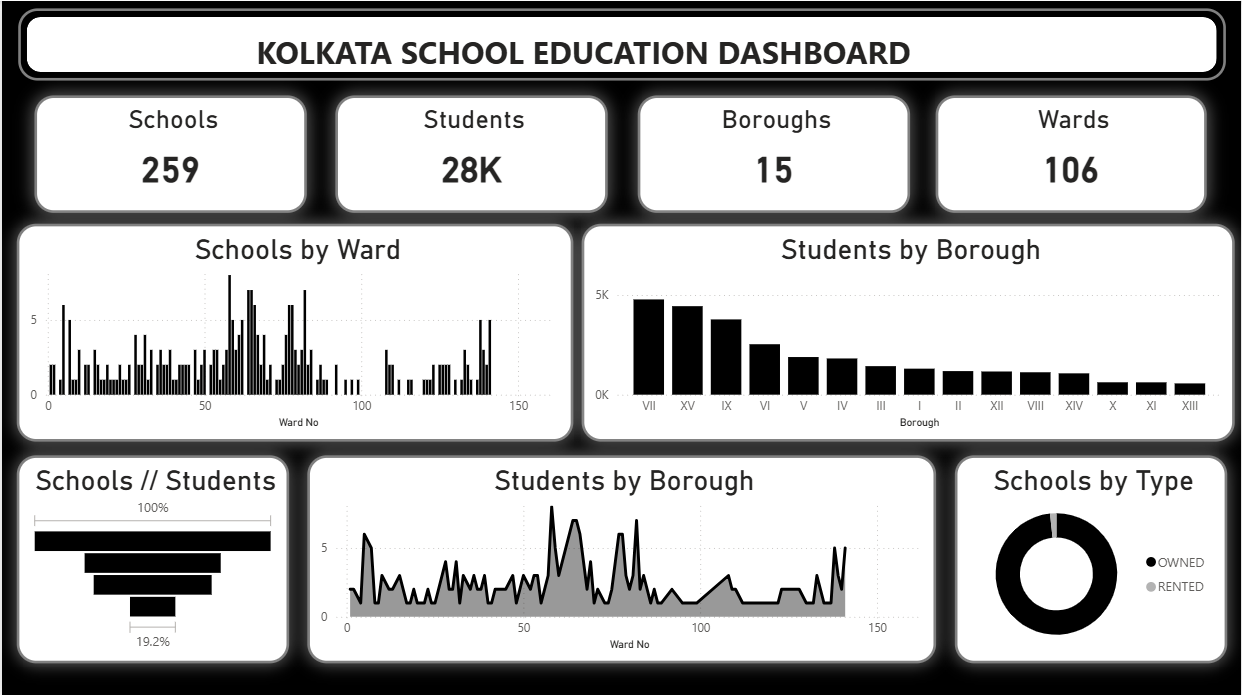

This screenshot's page, from the dashboard's own definition file:
{"tool":"powerbi","page":{"name":"Page 1","canvas":[1280,720],"ordinal":0},"visuals":[{"type":"shape","title":"KOLKATA SCHOOL EDUCATION DASHBOARD","box":[17.3,7.7,1247.3,74.8],"z":0},{"type":"textbox","box":[17.3,7.7,1176.3,74.8],"z":1000},{"type":"card","title":"Schools","fields":{"Values":["Kolkata_Schools.Total Schools"]},"box":[33.3,97.8,230.8,121.3],"z":2000},{"type":"card","title":"Students","fields":{"Values":["Kolkata_Schools.Total Students"]},"box":[359.9,97.8,230.8,121.3],"z":3000},{"type":"card","title":" Boroughs ","fields":{"Values":["Kolkata_Schools.Total Boroughs"]},"box":[688.6,97.8,230.8,121.3],"z":4000},{"type":"card","title":" Wards ","fields":{"Values":["Kolkata_Schools.Total Wards"]},"box":[1013.3,97.8,230.8,121.3],"z":5000},{"type":"lineStackedColumnComboChart","title":"Students by Borough","fields":{"Category":["Kolkata_Schools.Borough"],"Y":["Kolkata_Schools.Total Students"]},"box":[599.1,231.2,674.9,168.2],"z":6000},{"type":"clusteredColumnChart","title":"Schools by Ward","fields":{"Category":["Kolkata_Schools.Ward No"],"Y":["Kolkata_Schools.Total Schools"]},"box":[10.3,231.2,575.1,168.2],"z":7000},{"type":"stackedAreaChart","title":"Students by Borough","fields":{"Y":["Kolkata_Schools.Total Schools"],"Category":["Kolkata_Schools.Ward No"]},"box":[313.2,434.2,650,168.4],"z":7001},{"type":"donutChart","title":"Schools by Type","fields":{"Category":["Kolkata_Schools.School Type"],"Y":["Kolkata_Schools.Total Schools"]},"box":[984.3,434.2,281.6,168.4],"z":7002},{"type":"funnel","title":"Schools by Type","box":[15.8,434.2,281.6,168.4],"z":7003}]}

Visuals, with their boxes in screenshot pixels (x1, y1, x2, y2), scaled from the page's 1280x720 canvas onto the 1242x695 screenshot:
"KOLKATA SCHOOL EDUCATION DASHBOARD" shape: l=17, t=7, r=1227, b=80
textbox: l=17, t=7, r=1158, b=80
"Schools" card: l=32, t=94, r=256, b=211
"Students" card: l=349, t=94, r=573, b=211
" Boroughs " card: l=668, t=94, r=892, b=211
" Wards " card: l=983, t=94, r=1207, b=211
"Students by Borough" lineStackedColumnComboChart: l=581, t=223, r=1236, b=386
"Schools by Ward" clusteredColumnChart: l=10, t=223, r=568, b=386
"Students by Borough" stackedAreaChart: l=304, t=419, r=935, b=582
"Schools by Type" donutChart: l=955, t=419, r=1228, b=582
"Schools by Type" funnel: l=15, t=419, r=289, b=582
